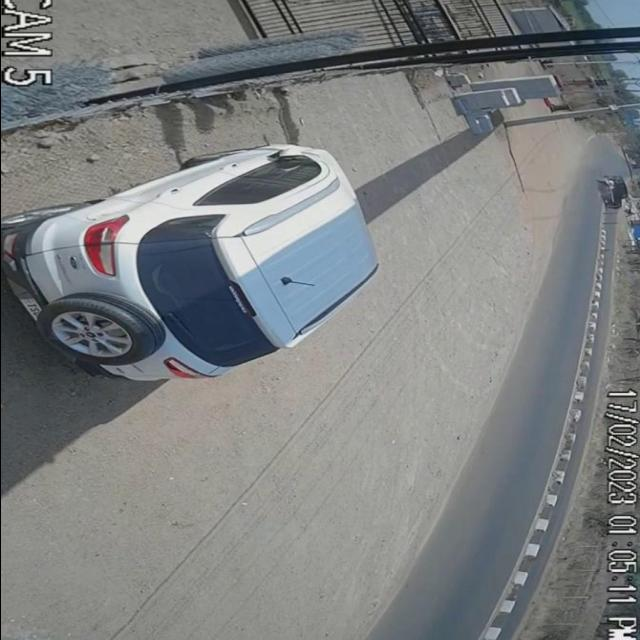accident: (589, 175, 631, 211)
